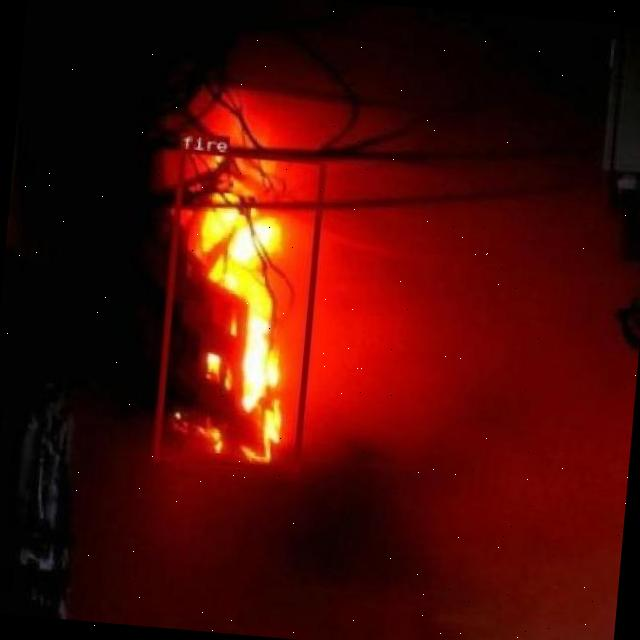fire: (152, 146, 325, 472)
